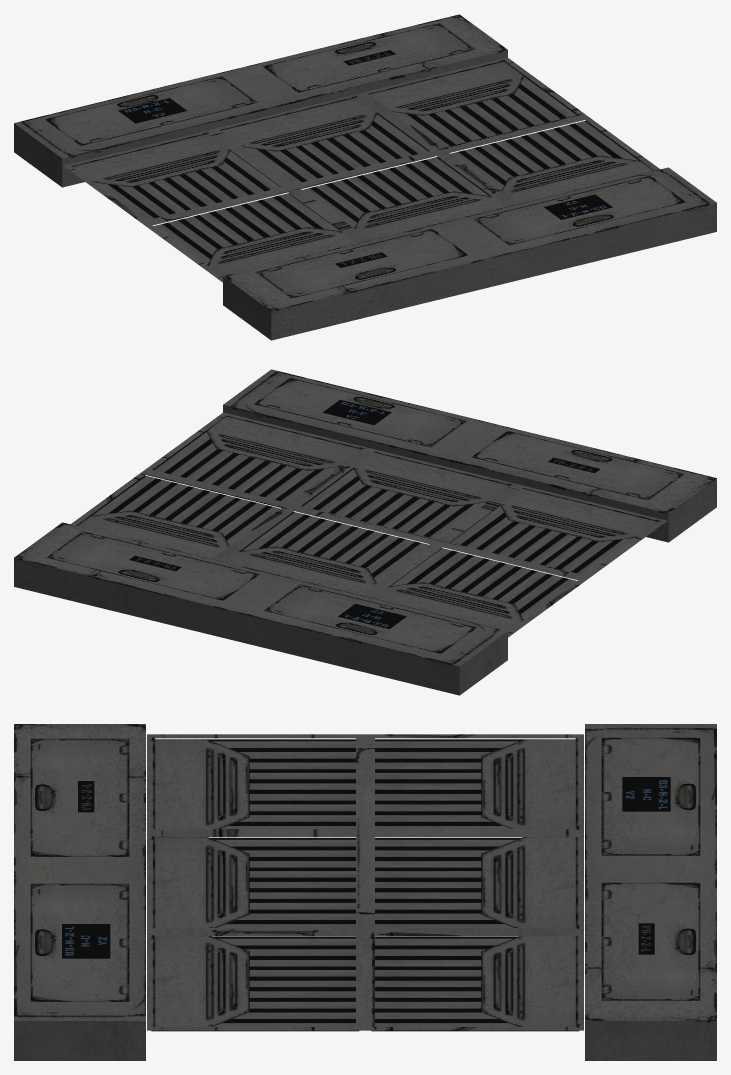
Rendered from p6_blackout_panel_flooring_01_lod2.glb.
The picture shows the model from 3 angles, top to bottom: view 1: azimuth 30°, elevation 25°; view 2: azimuth 150°, elevation 25°; view 3: azimuth 270°, elevation 25°; orthographic projection. The views are drawn at different scales.
Visible parts, largest first — view 1: surf0, surf1, surf2; view 2: surf0, surf1, surf2; view 3: surf0, surf1, surf2.
Boxes of the visible parts, x1=… form: surf0: x1=14, y1=14, x2=716, y2=340; surf1: x1=94, y1=62, x2=648, y2=264; surf2: x1=118, y1=50, x2=612, y2=267; surf0: x1=14, y1=369, x2=716, y2=695; surf1: x1=82, y1=417, x2=636, y2=619; surf2: x1=129, y1=399, x2=599, y2=629; surf0: x1=14, y1=724, x2=716, y2=1060; surf1: x1=151, y1=739, x2=578, y2=1031; surf2: x1=62, y1=777, x2=670, y2=958.
Bounding box in the file's own units: 128 × 8.99 × 128.
